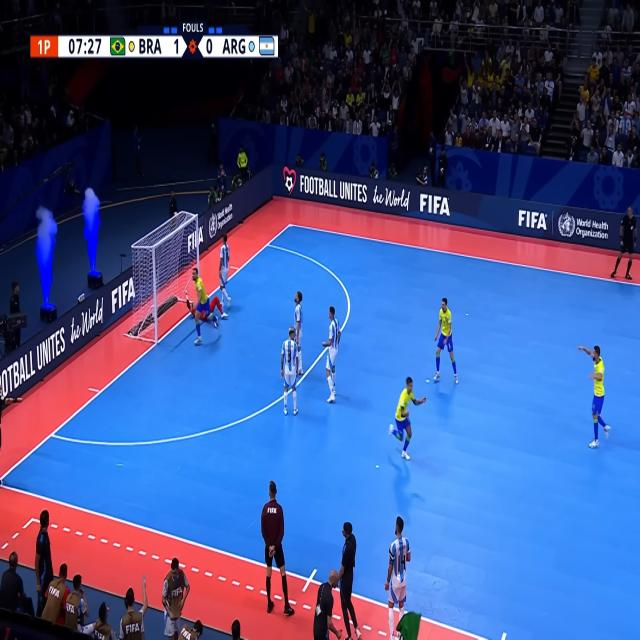Field: (2, 216, 640, 640)
Goal: (132, 212, 200, 347)
Goal-keeper: (186, 303, 228, 328)
